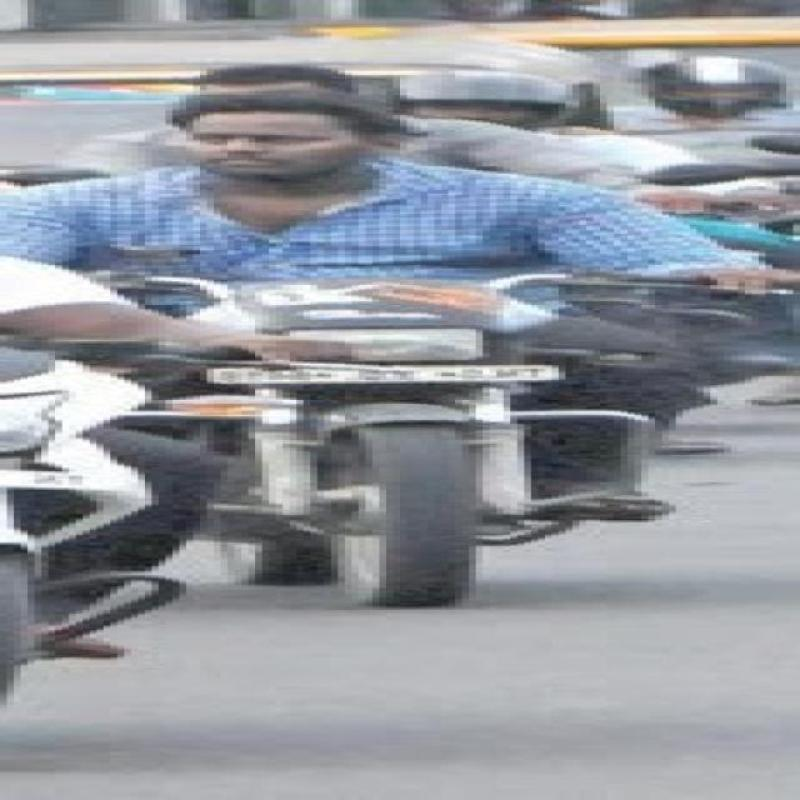nohelmet: (124, 96, 435, 188)
